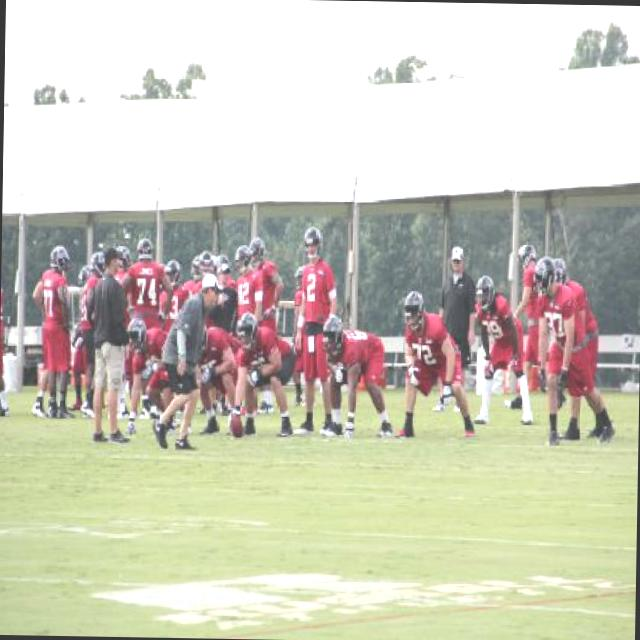Person: (533, 254, 615, 444), (393, 285, 478, 439), (147, 273, 216, 451), (502, 242, 570, 412), (116, 229, 172, 419), (317, 312, 395, 438), (474, 270, 536, 422), (226, 316, 298, 436), (556, 256, 600, 442), (432, 240, 476, 416), (121, 315, 182, 439), (38, 240, 78, 422), (198, 320, 240, 434), (78, 250, 104, 420), (26, 269, 52, 415), (294, 264, 318, 408), (111, 246, 131, 418), (252, 237, 284, 336), (70, 262, 87, 415), (236, 246, 263, 324), (188, 245, 235, 286), (162, 262, 186, 338), (0, 285, 11, 419)
